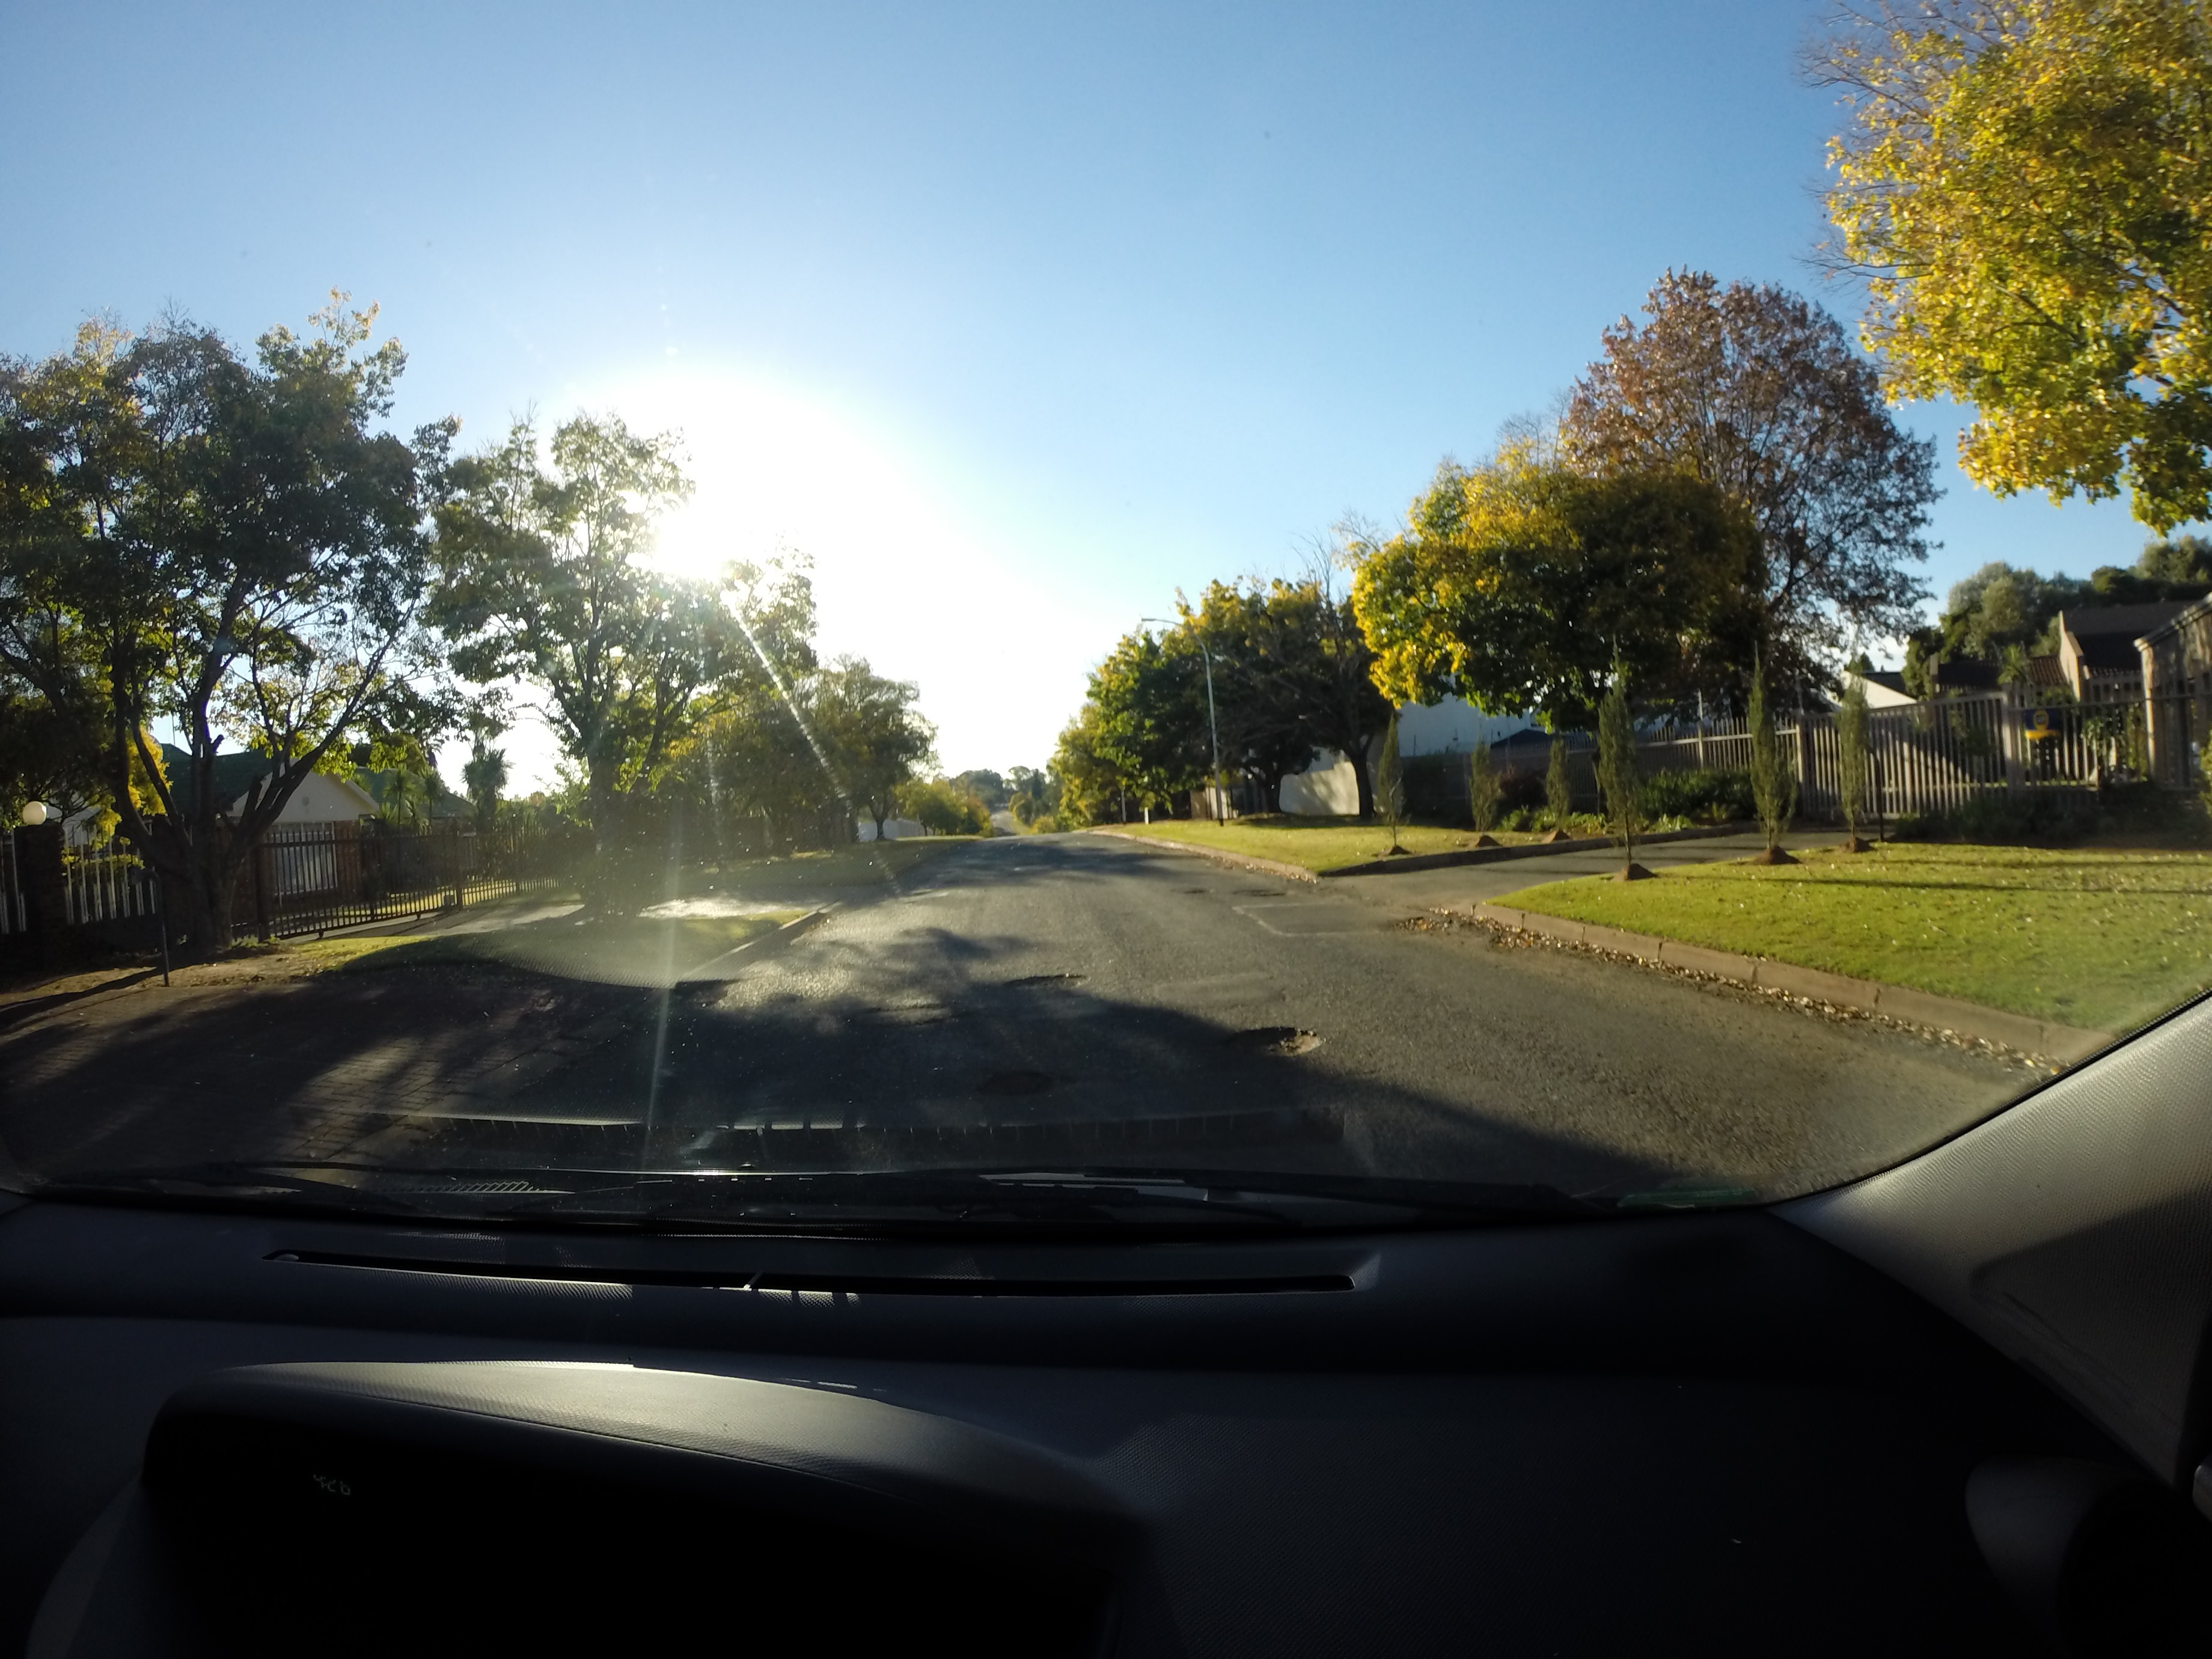pothole: (1205, 990, 1329, 1077), (963, 1054, 1068, 1094), (1007, 964, 1120, 992)
